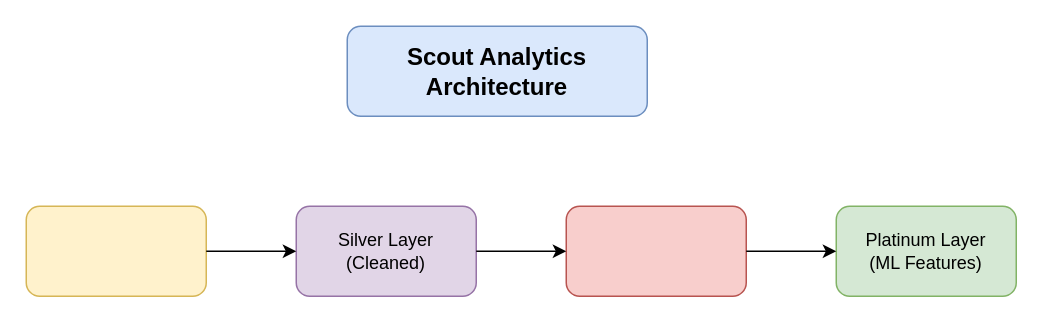
This 1043x323 diagram has some shape labels left out. Here are the shapes that lost their labels. From the top down, the box of each, then its label:
(25, 205, 206, 296): Bronze Layer (Raw Data)
(565, 205, 746, 296): Gold Layer (Aggregated)
